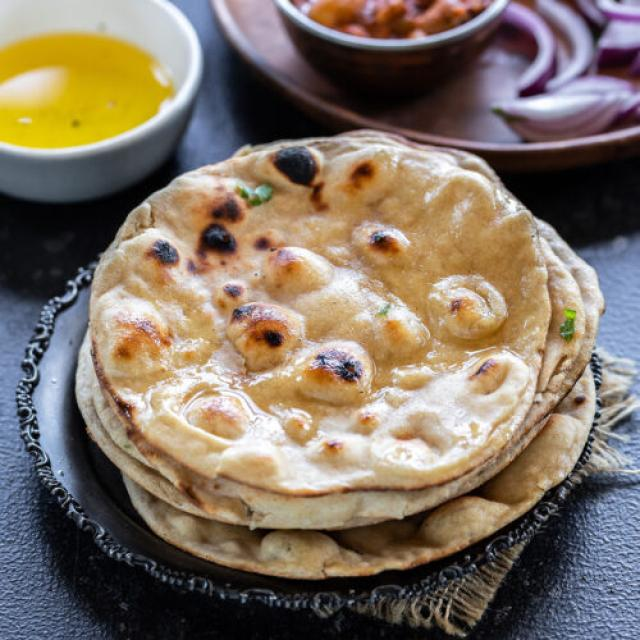ROTI: (72, 128, 606, 585), (89, 131, 557, 488)
